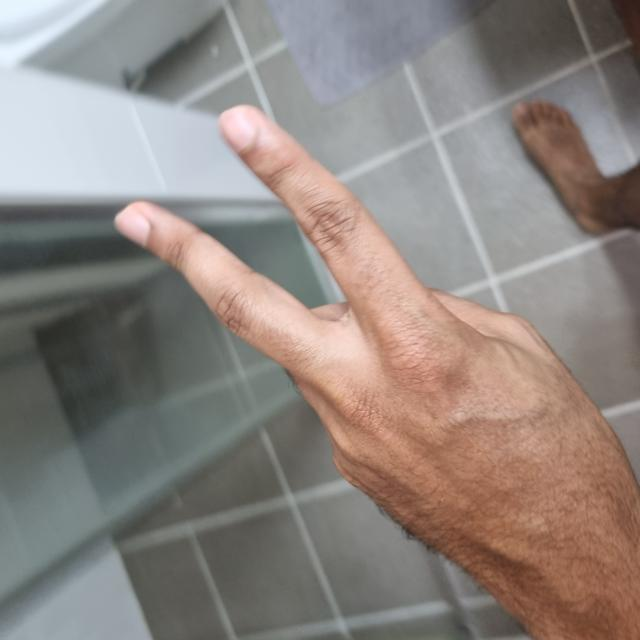Scissors: (2, 117, 532, 638)
